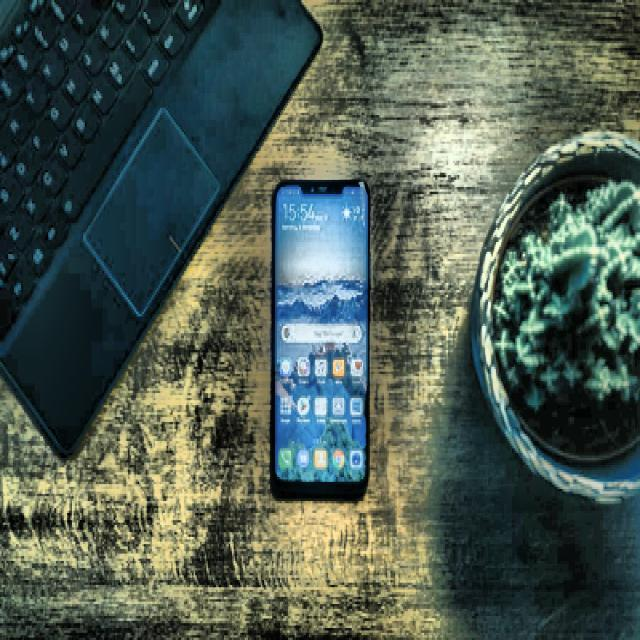Phone: (271, 176, 370, 496)
